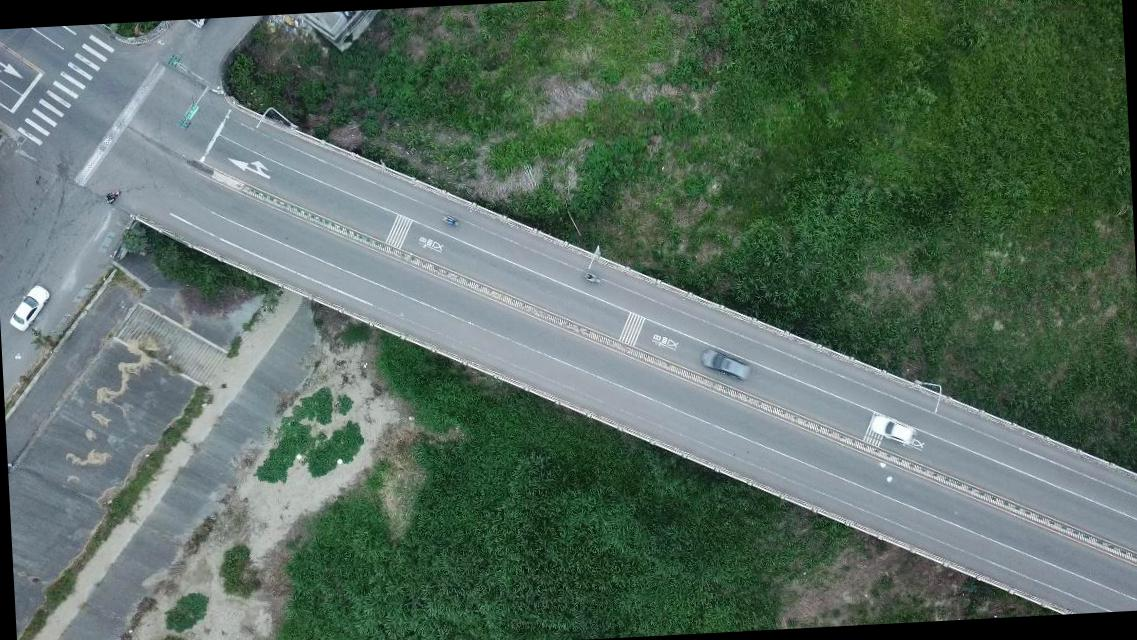vehicle: (6, 284, 52, 330), (698, 346, 750, 384), (869, 412, 917, 447)
